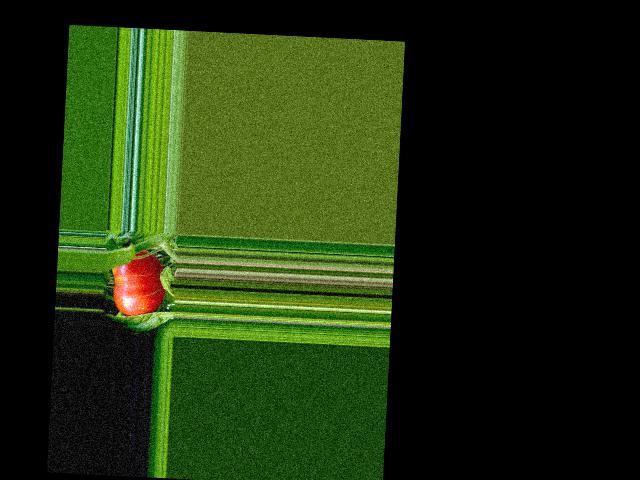tomato: (109, 248, 167, 318)
